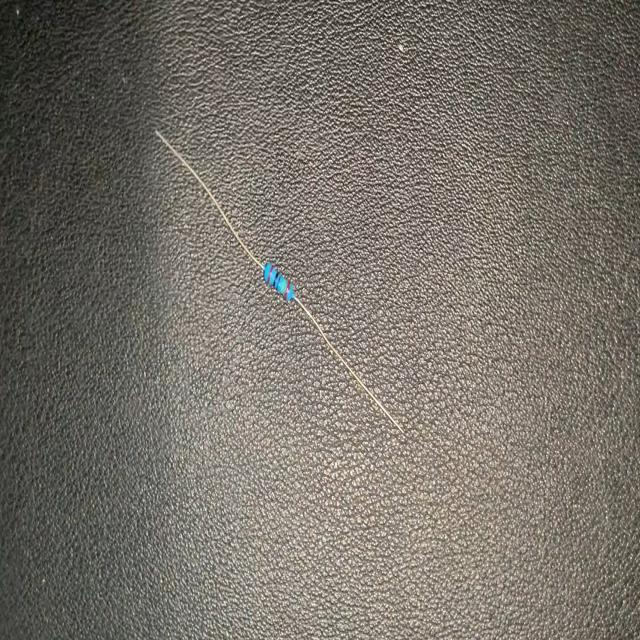resistor: (153, 129, 407, 435)
